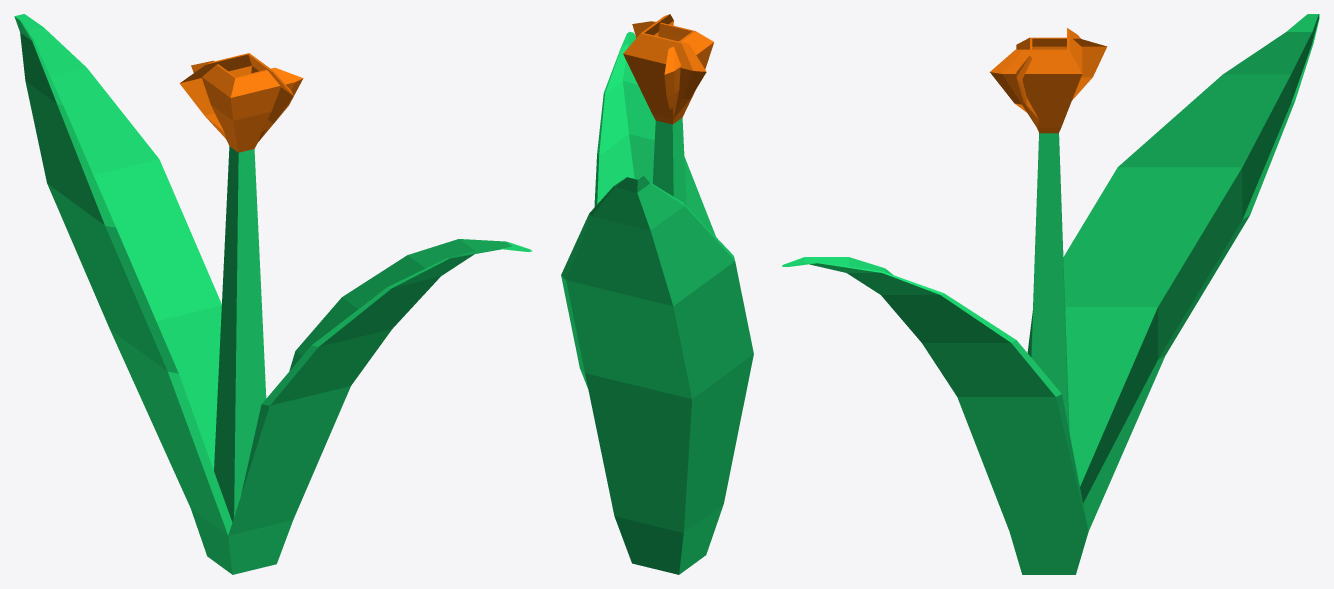
File: tulipan.fbx
3 views of the same model, side by side, from view 1: azimuth 30°, elevation 25°; view 2: azimuth 150°, elevation 25°; view 3: azimuth 270°, elevation 25° (orthographic). The views are drawn at different scales.
Visible parts, largest first — view 1: Cube; view 2: Cube; view 3: Cube.
Part boxes in pixels (x1,y1,x2,y2): Cube: (14, 14, 532, 574); Cube: (561, 14, 753, 574); Cube: (782, 14, 1319, 574).
Bounding box in the file's own units: 120 × 215 × 200.
